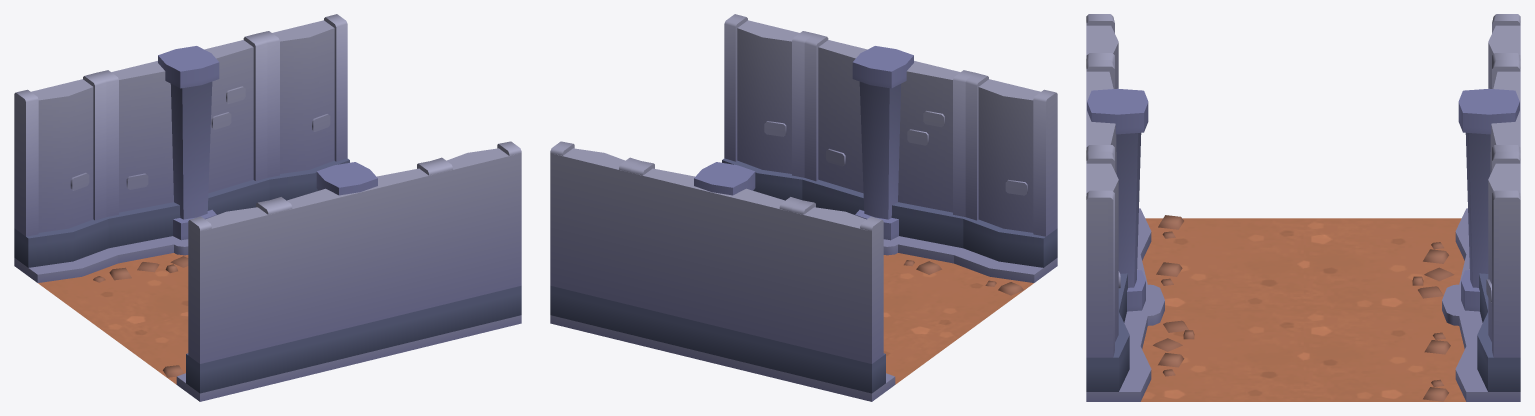
The model's file is corridor_wide.glb.
3 views of the same model, side by side, from view 1: azimuth 30°, elevation 25°; view 2: azimuth 150°, elevation 25°; view 3: azimuth 270°, elevation 25° (orthographic). The views are drawn at different scales.
Parts seen in each view (by area): view 1: corridor-wide; view 2: corridor-wide; view 3: corridor-wide.
Boxes of the visible parts, bbox=[...] form: corridor-wide: bbox=[14, 14, 521, 401]; corridor-wide: bbox=[550, 14, 1057, 401]; corridor-wide: bbox=[1086, 14, 1520, 401].
Bounding box in the file's own units: 8 × 4.23 × 8.
1 material, 1 textured.
